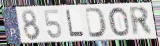5: (43, 9, 63, 40)
8: (21, 9, 42, 41)
D: (84, 7, 108, 39)
L: (65, 9, 86, 39)
O: (108, 7, 131, 38)
R: (127, 6, 154, 37)
